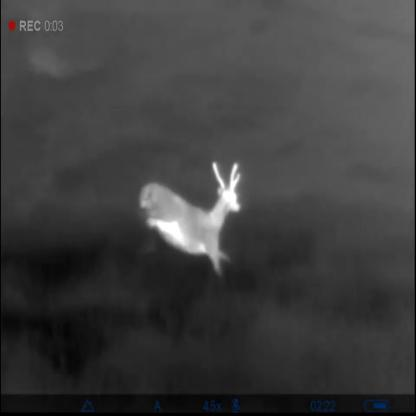rehkitze: (128, 159, 246, 284)
